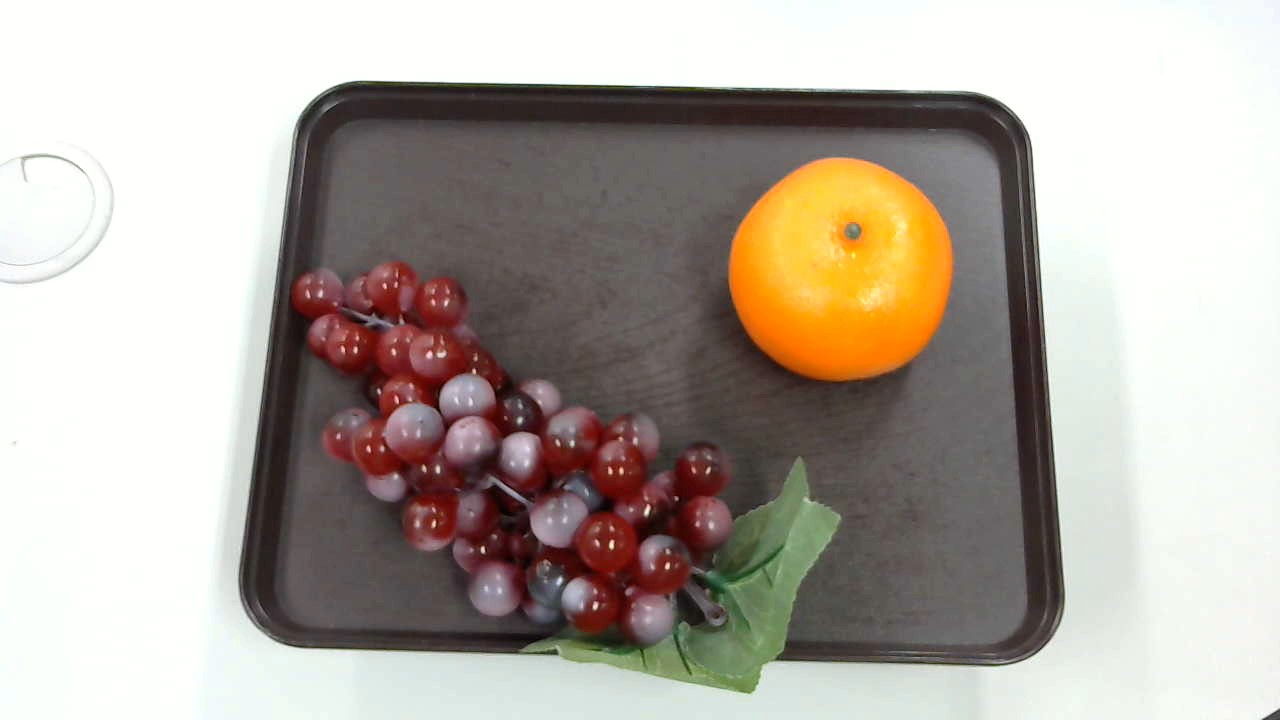grape: (285, 258, 857, 720)
orange: (725, 159, 951, 378)
